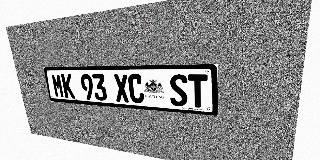3: (92, 74, 107, 101)
9: (80, 74, 95, 100)
C: (127, 74, 145, 104)
K: (61, 74, 75, 99)
M: (51, 74, 65, 98)
S: (169, 74, 188, 107)
T: (188, 74, 207, 108)
X: (113, 74, 130, 103)
